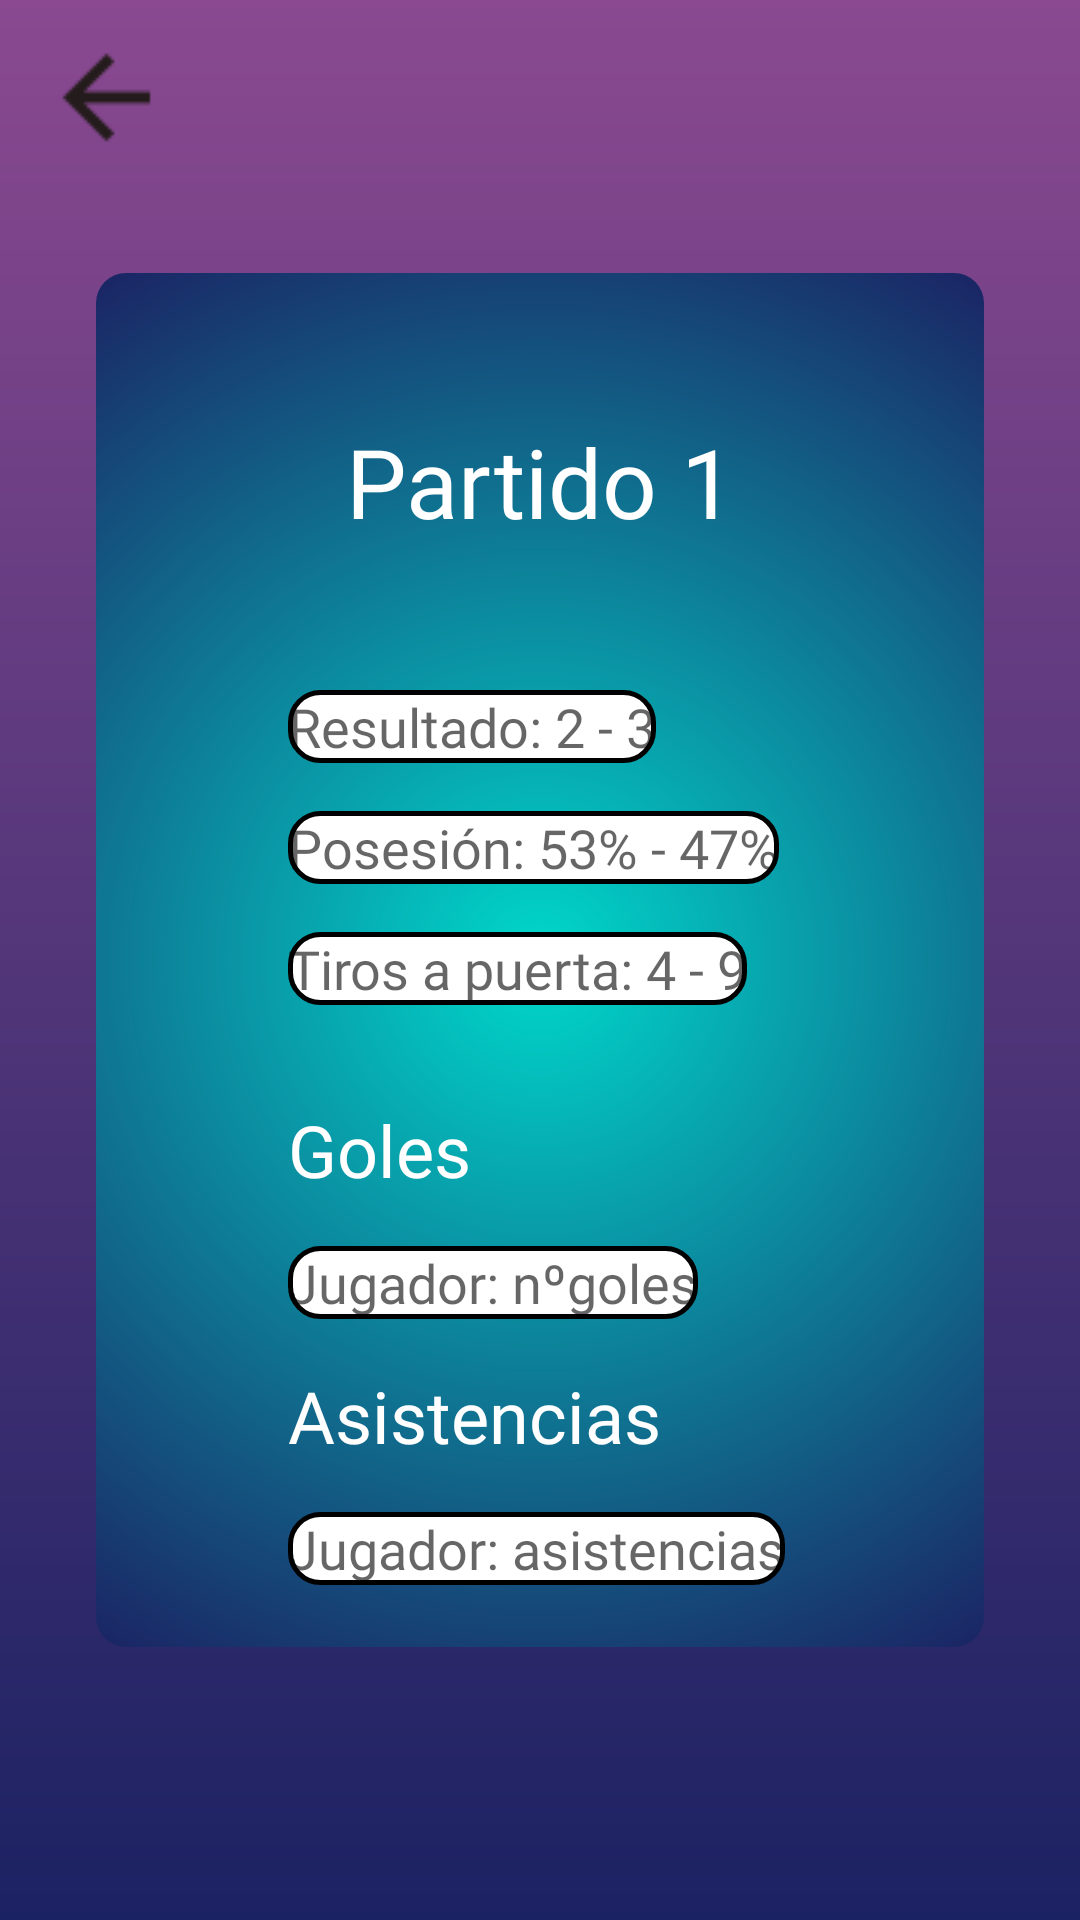

Locate icon controls on the screen. Image size 1080*1920, boxes as (x1, y1, x2, y2).
backarrow: (62, 53, 151, 142)
